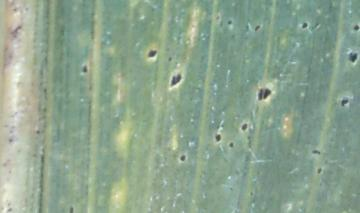tarspot: (258, 87, 271, 102), (171, 73, 182, 88), (348, 52, 360, 63), (147, 48, 158, 58), (240, 121, 249, 132), (341, 97, 350, 107), (178, 153, 187, 162), (214, 133, 222, 143), (81, 65, 89, 74), (352, 23, 360, 32), (311, 148, 321, 155), (316, 166, 323, 175), (301, 21, 308, 30), (254, 24, 261, 32), (34, 128, 41, 135), (248, 190, 254, 198), (69, 205, 74, 213), (227, 19, 233, 25), (168, 55, 173, 62), (229, 141, 234, 148)
